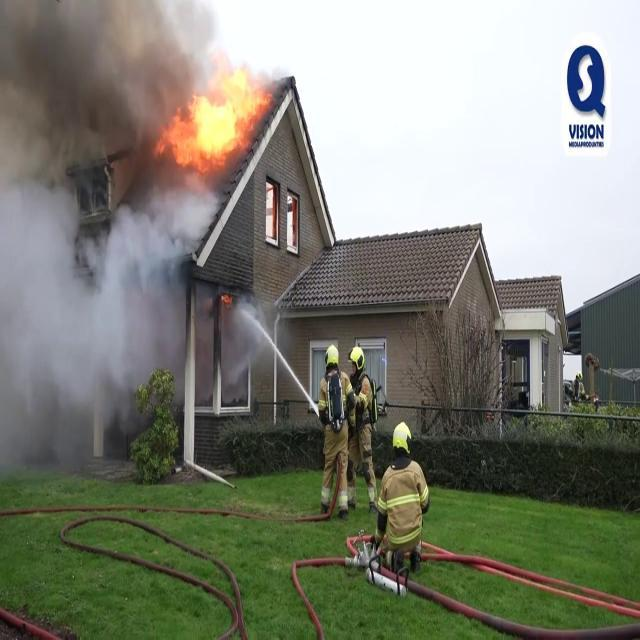Fire: (164, 54, 270, 166)
Smoke: (0, 0, 209, 430)
